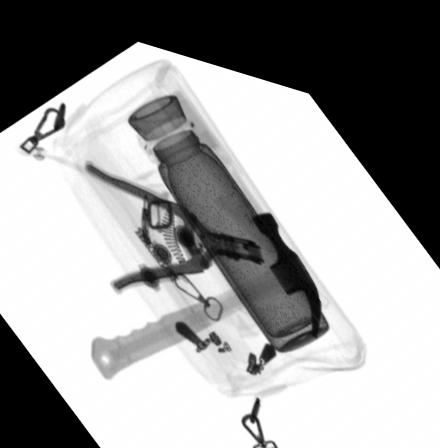Hammer: (90, 195, 321, 373)
Pliers: (84, 155, 266, 288)
